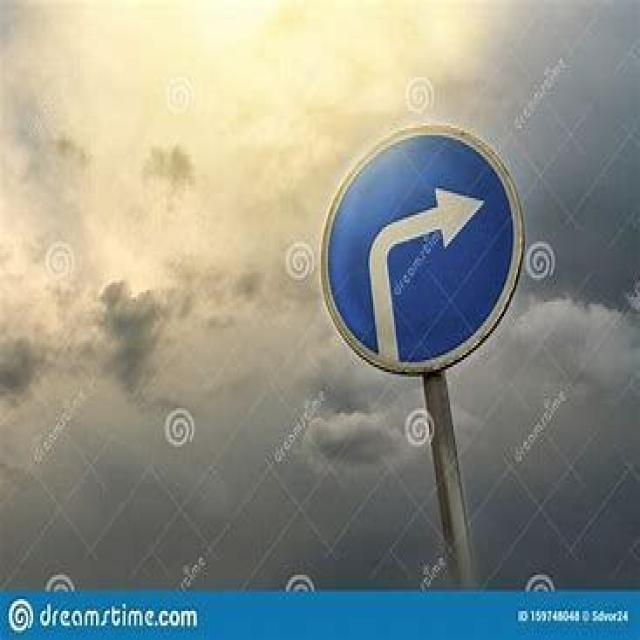COMPULSARY_TURN_RIGHT_AHEAD: (320, 127, 526, 380)
